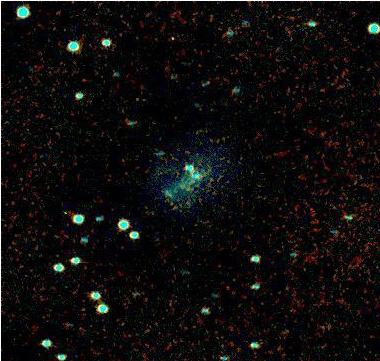star: (157, 23, 187, 53)
